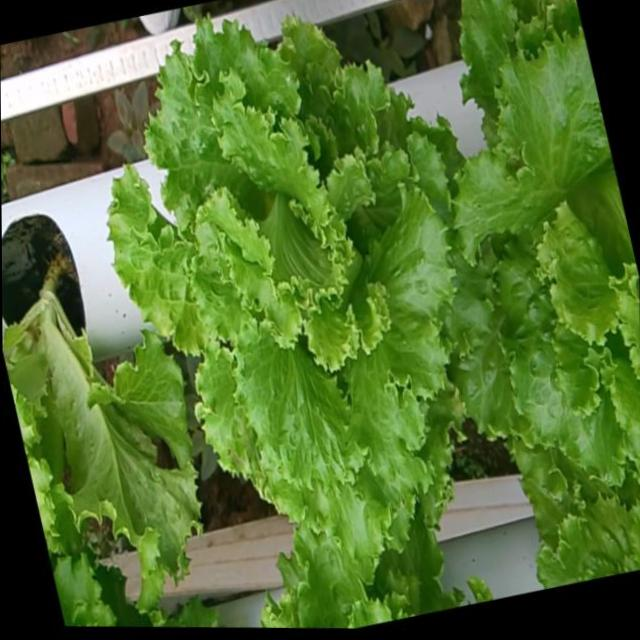Mature: (108, 16, 464, 552), (447, 20, 640, 479)
